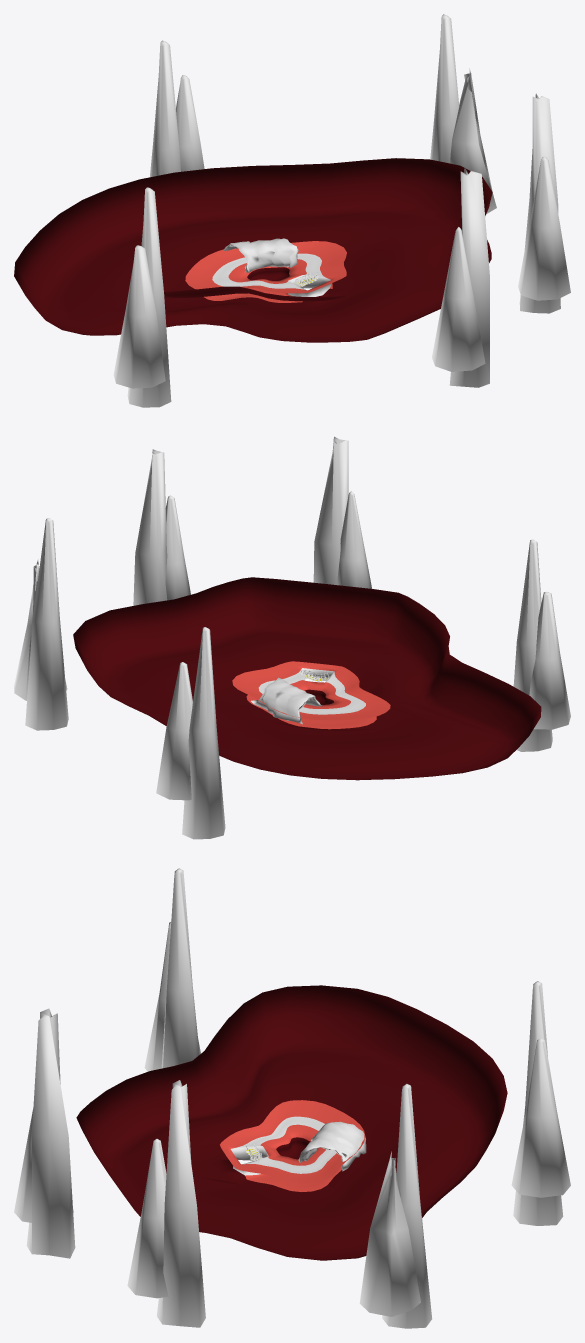
Rendered from map_withouttextures.fbx.
The picture shows the model from 3 angles, top to bottom: view 1: azimuth 30°, elevation 25°; view 2: azimuth 150°, elevation 25°; view 3: azimuth 270°, elevation 25°; orthographic projection. The views are drawn at different scales.
Visible parts, largest first — view 1: map, mountains, cave; view 2: map, mountains, cave; view 3: map, mountains, cave.
Part boxes in pixels (bbox=[...]): map: bbox=[14, 158, 492, 342]; mountains: bbox=[113, 14, 570, 407]; cave: bbox=[223, 238, 298, 272]; map: bbox=[73, 577, 541, 780]; mountains: bbox=[14, 436, 570, 839]; cave: bbox=[251, 677, 322, 724]; map: bbox=[76, 985, 507, 1260]; mountains: bbox=[14, 868, 570, 1328]; cave: bbox=[298, 1121, 366, 1171].
Size of the model in its own units: 214828 by 93448 by 186763.
